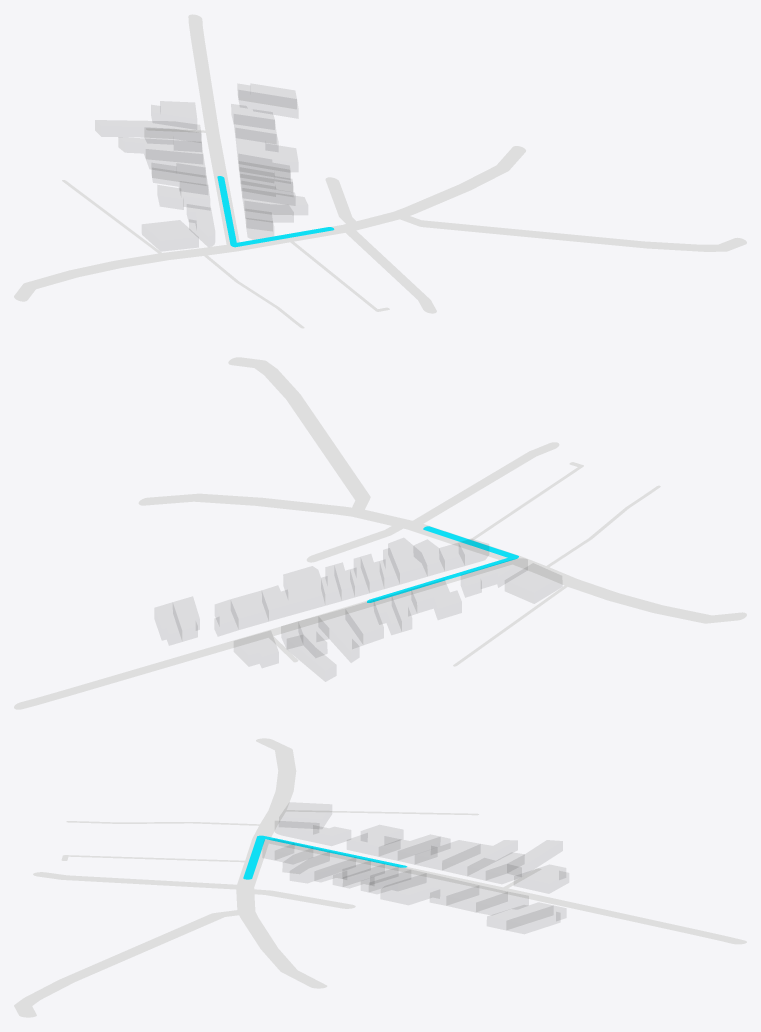
File: lavant-test.gltf
3 views of the same model, one above another, from view 1: azimuth 30°, elevation 25°; view 2: azimuth 150°, elevation 25°; view 3: azimuth 270°, elevation 25° (orthographic). The views are drawn at different scales.
Visible parts, largest first — view 1: osm-25, osm-29, osm-32, osm-30, osm-26, route, osm-35, osm-31; view 2: osm-25, osm-29, osm-32, osm-30, osm-26, route, osm-35, osm-31; view 3: osm-25, osm-29, osm-32, osm-30, osm-26, route, osm-35, osm-31.
Boxes of the visible parts, x1=… form: osm-25: x1=188, y1=14, x2=240, y2=251; osm-29: x1=391, y1=211, x2=746, y2=251; osm-32: x1=14, y1=245, x2=240, y2=301; osm-30: x1=366, y1=146, x2=525, y2=224; osm-26: x1=340, y1=225, x2=436, y2=313; route: x1=217, y1=176, x2=334, y2=247; osm-35: x1=325, y1=177, x2=361, y2=229; osm-31: x1=228, y1=224, x2=352, y2=251; osm-25: x1=14, y1=556, x2=521, y2=709; osm-29: x1=228, y1=357, x2=370, y2=516; osm-32: x1=508, y1=556, x2=746, y2=623; osm-30: x1=138, y1=493, x2=390, y2=522; osm-26: x1=405, y1=442, x2=559, y2=529; route: x1=367, y1=526, x2=518, y2=602; osm-35: x1=306, y1=520, x2=405, y2=562; osm-31: x1=405, y1=522, x2=522, y2=563; osm-25: x1=252, y1=837, x2=746, y2=944; osm-29: x1=14, y1=909, x2=254, y2=1017; osm-32: x1=253, y1=738, x2=296, y2=840; osm-30: x1=236, y1=897, x2=327, y2=988; osm-26: x1=33, y1=872, x2=253, y2=889; route: x1=243, y1=835, x2=407, y2=879; osm-35: x1=239, y1=888, x2=355, y2=908; osm-31: x1=236, y1=837, x2=268, y2=889.
Bounding box in the file's own units: 27.53 × 0.6662 × 30.3.
